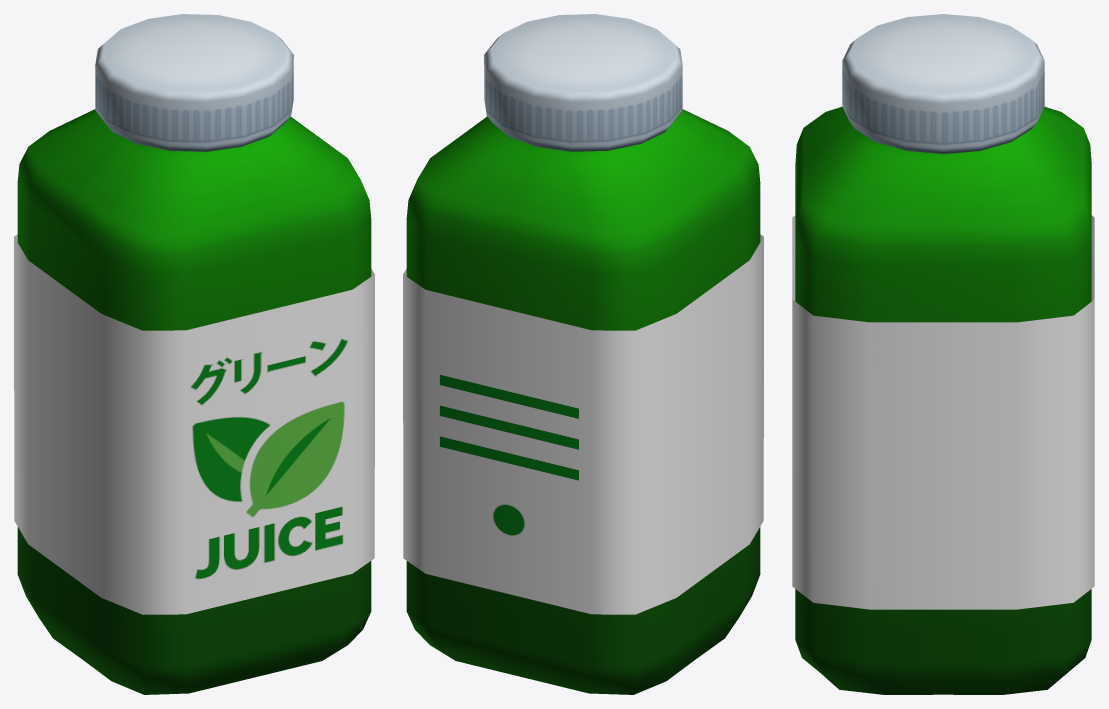
The model's file is Juice_Bottle_01_Green.fbx.
3 views of the same model, side by side, from view 1: azimuth 30°, elevation 25°; view 2: azimuth 150°, elevation 25°; view 3: azimuth 270°, elevation 25° (orthographic).
Visible parts, largest first — view 1: Juice_Bottle_01_Green; view 2: Juice_Bottle_01_Green; view 3: Juice_Bottle_01_Green.
Part boxes in pixels (left/top/right/bottom): Juice_Bottle_01_Green: left=14, top=14, right=374, bottom=694; Juice_Bottle_01_Green: left=403, top=14, right=763, bottom=694; Juice_Bottle_01_Green: left=792, top=14, right=1094, bottom=694.
Size of the model in its own units: 2.85 by 6.08 by 2.84.
